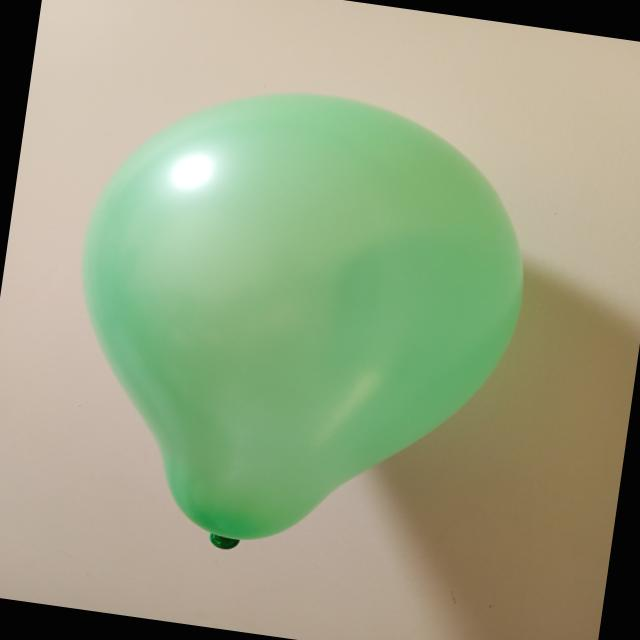balloon: (83, 94, 523, 549)
